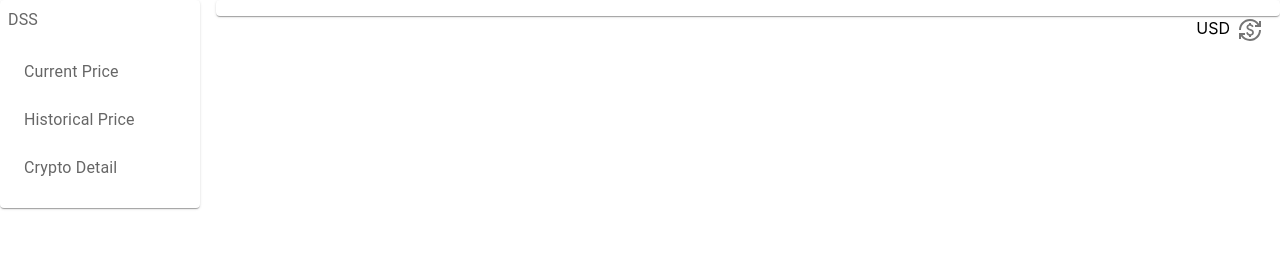
Test: App component › check the change unit currency button
What coordinates should you click on to do the following:
click the button named "crc-iconbuttion"
I would click on:
 (1250, 30)
Its box is [1230,10,1270,50].
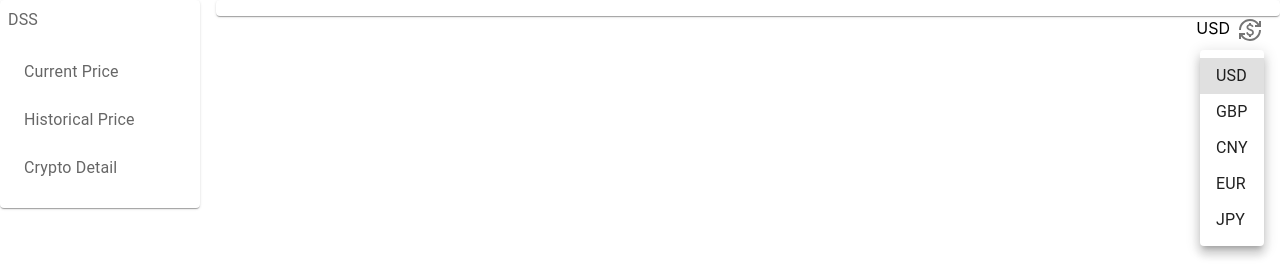
Result: the menu item "GBP" is shown at [1216,102,1247,121]
Result: the menu item "CNY" is shown at [1216,138,1248,157]
Result: the menu item "EUR" is shown at [1216,174,1246,193]
